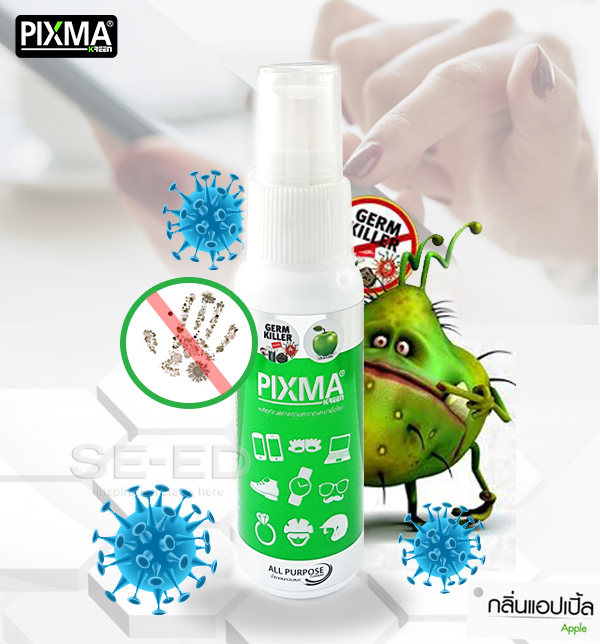Cleaning_solution: (223, 57, 370, 611)
